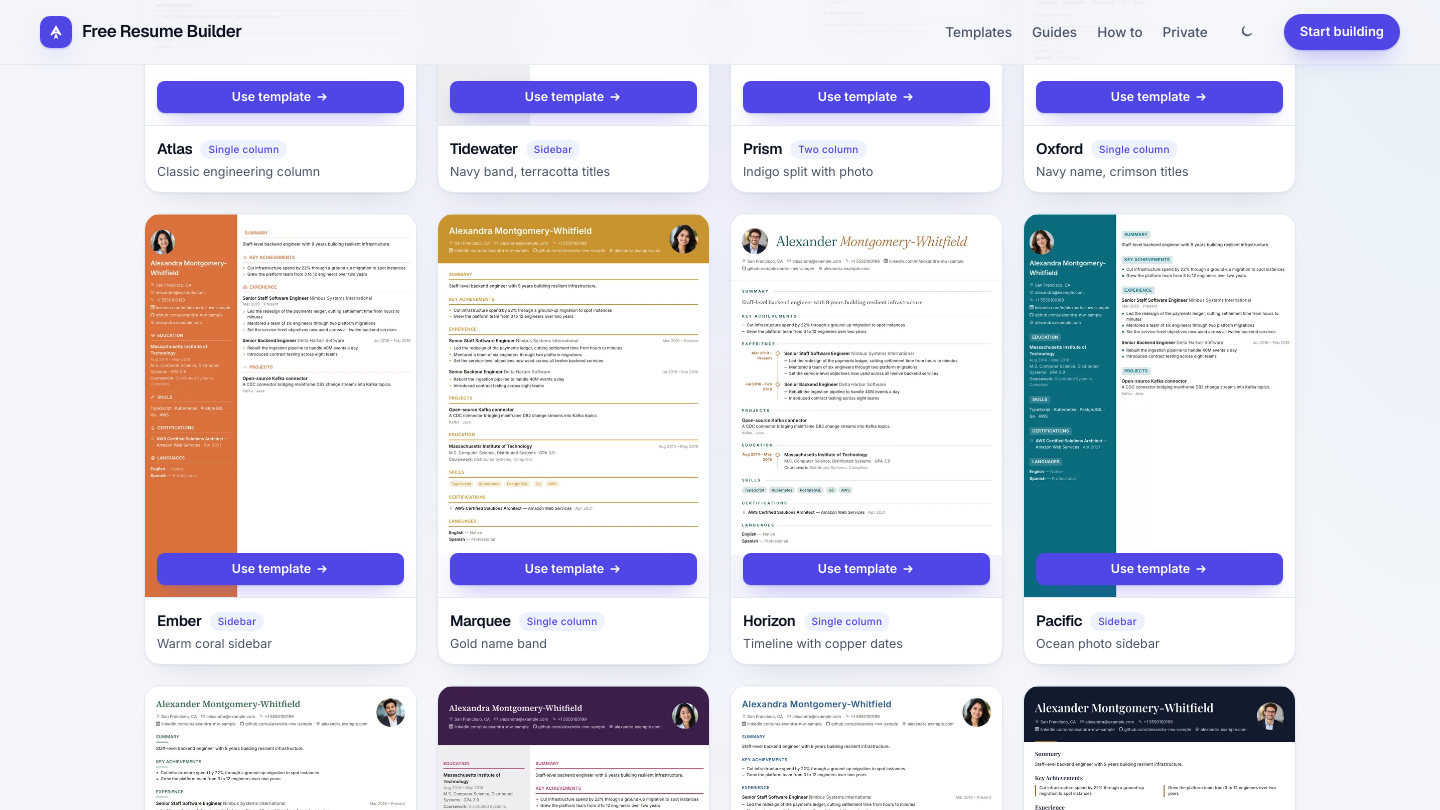
it: templates gallery › previews a sidebar template with the rail split
The width and height of the screenshot is (1440, 810).
(page scrolled)
What coordinates should you click on to do the following:
click the button named "Preview Ember layout"
I would click on:
 (280, 405)
Its box is [145,214,416,597].
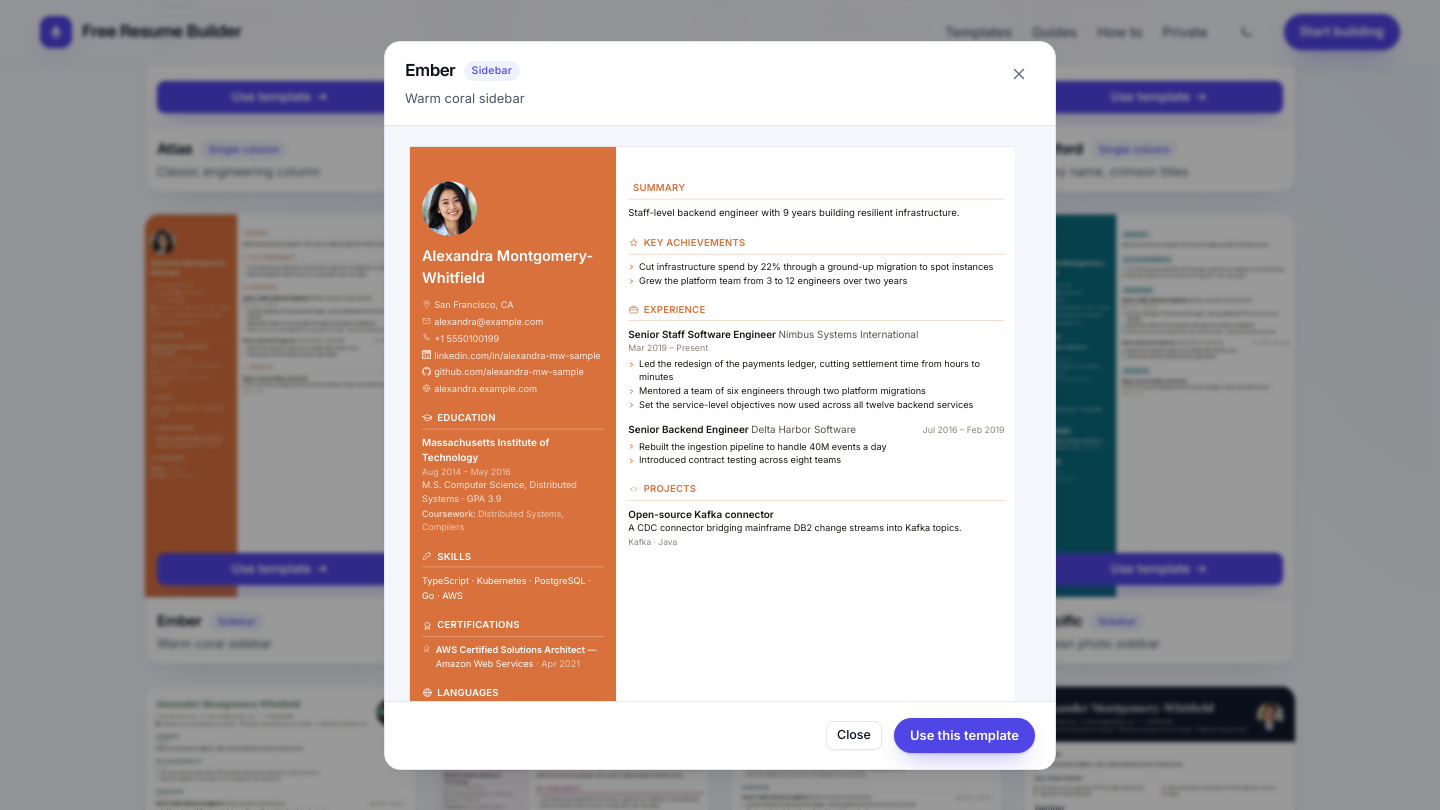
expect the element that starts with "Alexandra Montgomery-Whitfield" is shown: met, box [410,146,1016,700]
expect the cell that starts with "Alexandra Montgomery-Whitfield" is shown: met, box [410,146,616,700]
